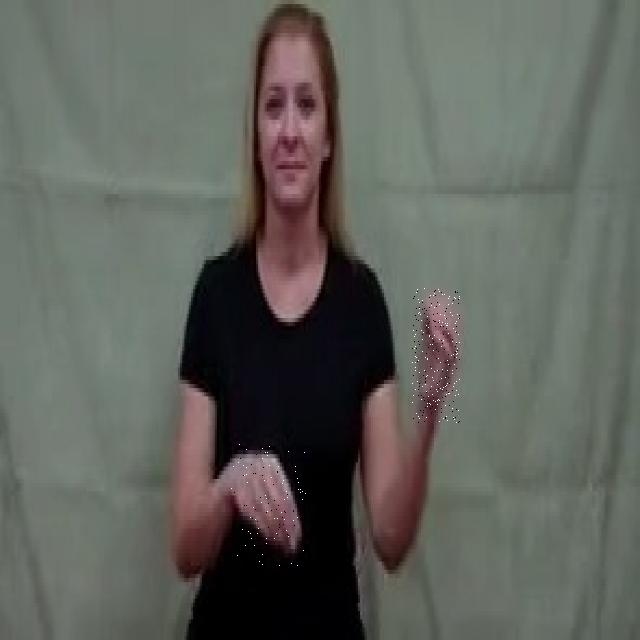ingredients: (230, 444, 306, 570), (412, 288, 460, 423)
